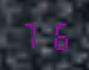seven: (19, 20, 43, 50)
six: (44, 20, 68, 50)
